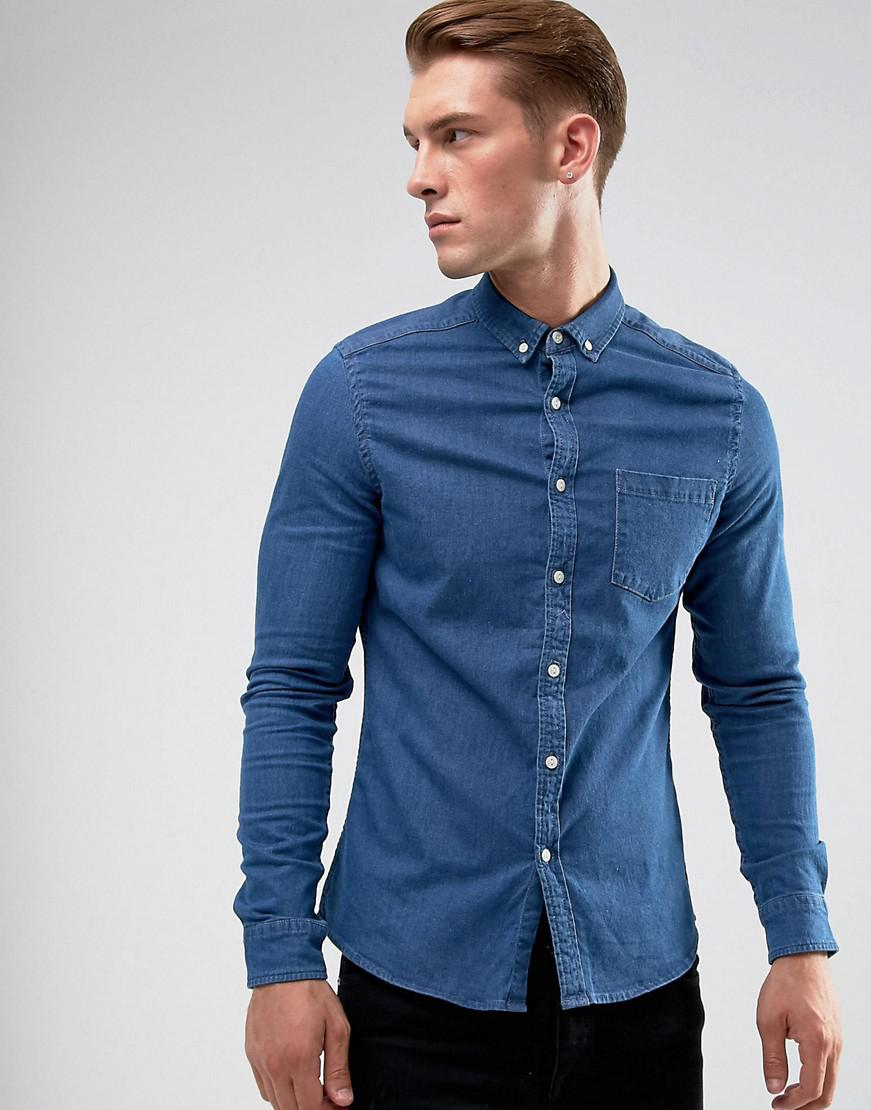teeshirt: (235, 271, 852, 1018)
